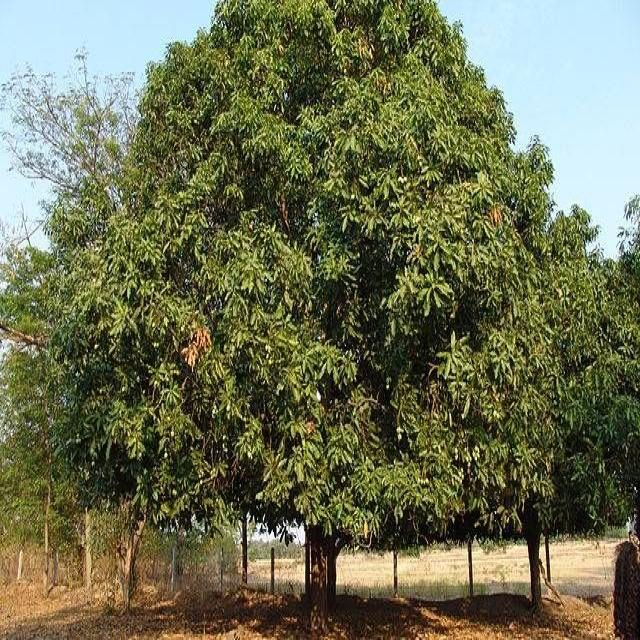Mango-Tree: (67, 36, 635, 562)
